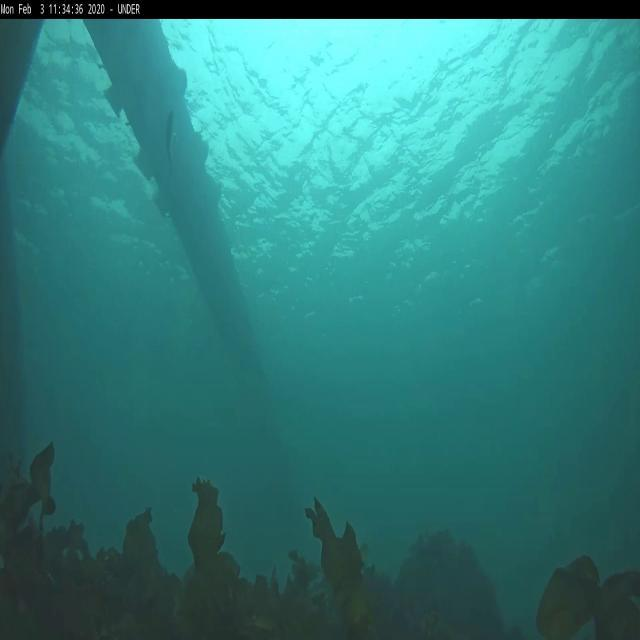fish: (166, 110, 176, 170)
